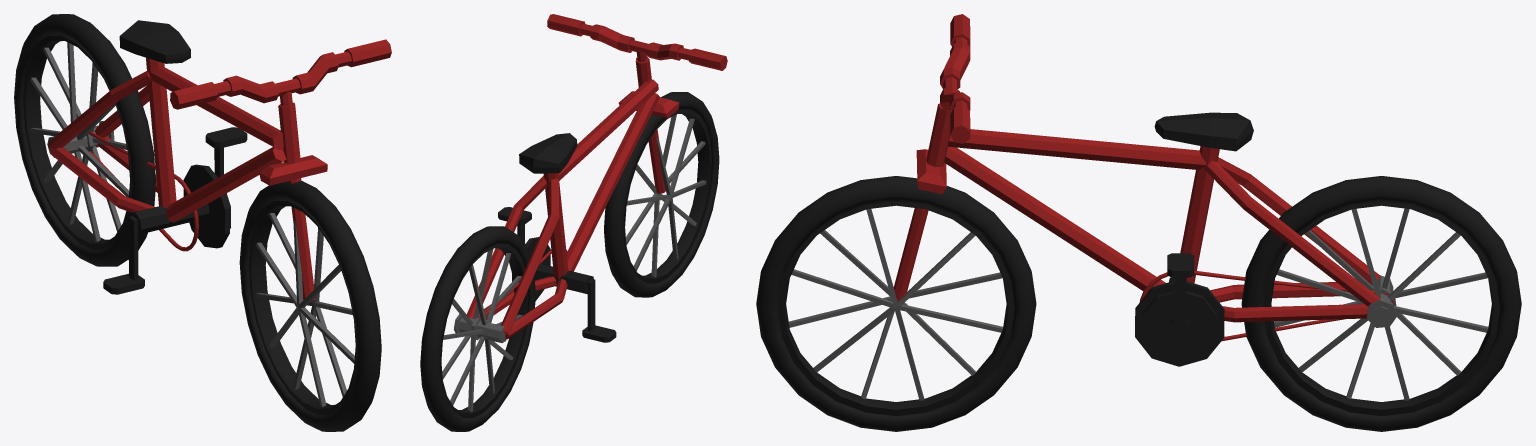
The model's file is red_bicycle.fbx.
3 renders of one model, left to right at view 1: azimuth 30°, elevation 25°; view 2: azimuth 150°, elevation 25°; view 3: azimuth 270°, elevation 25°, orthographic. The views are drawn at different scales.
Visible parts, largest first — view 1: Object009; view 2: Object009; view 3: Object009.
Boxes of the visible parts, x1,y1,x2,y2 form: Object009: (14,14,391,431); Object009: (420,14,727,431); Object009: (756,14,1521,431).
Size of the model in its own units: 57.62 by 87.06 by 167.
